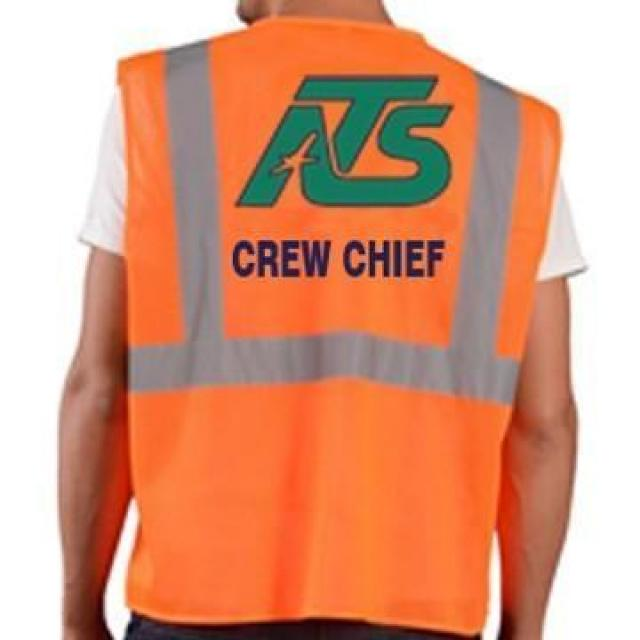vest: (110, 13, 566, 636)
